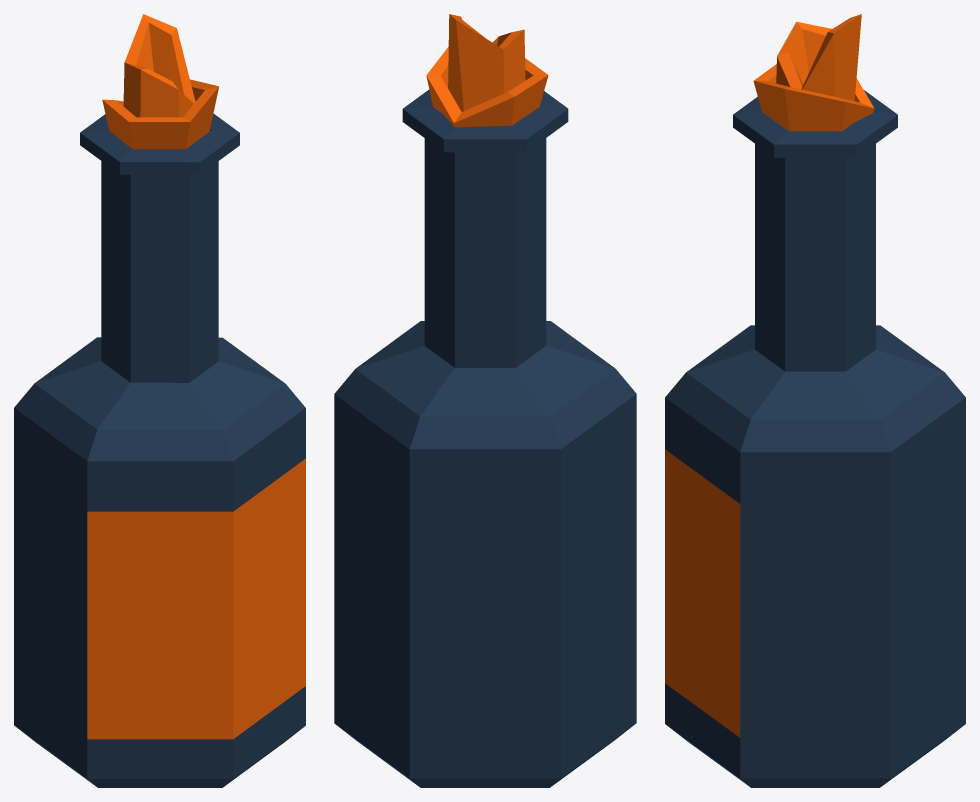
File: bottle-alchemy-urine-full.fbx
The picture shows the model from 3 angles, left to right: view 1: azimuth 30°, elevation 25°; view 2: azimuth 150°, elevation 25°; view 3: azimuth 270°, elevation 25°; orthographic projection. The views are drawn at different scales.
Parts seen in each view (by area): view 1: bottle-alchemy-urine-full; view 2: bottle-alchemy-urine-full; view 3: bottle-alchemy-urine-full.
Part boxes in pixels (x1,y1,x2,y2): bottle-alchemy-urine-full: (14, 14, 305, 787); bottle-alchemy-urine-full: (334, 14, 636, 787); bottle-alchemy-urine-full: (665, 14, 965, 787).
Size of the model in its own units: 98 by 304 by 114.
